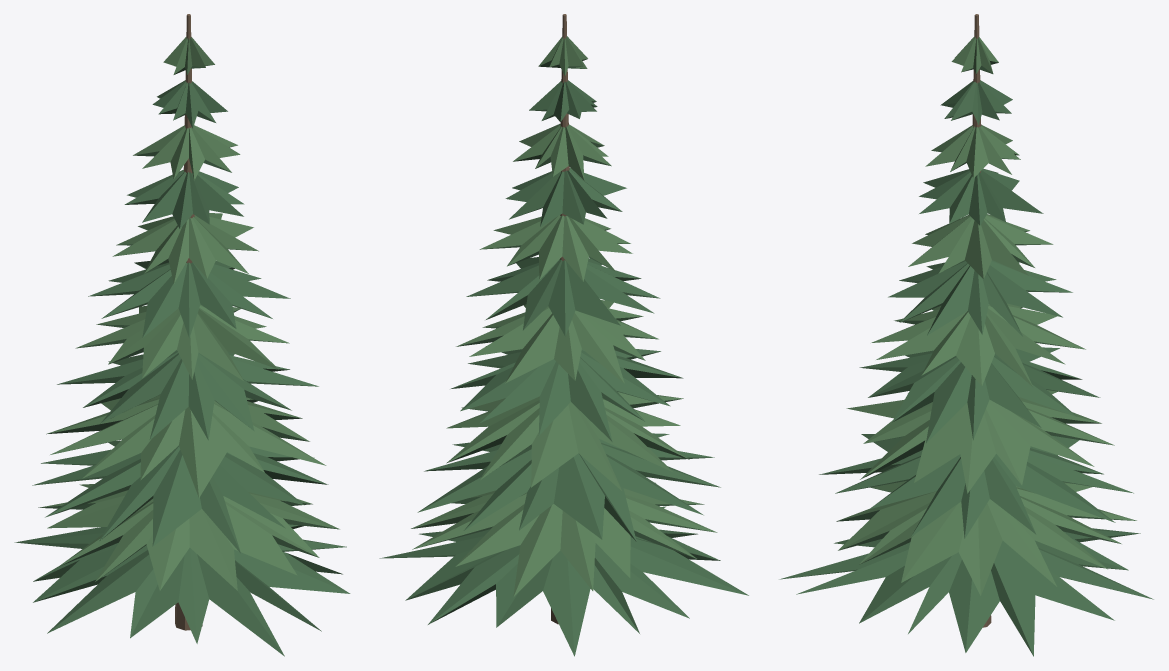
3 views of the same model, side by side, from view 1: azimuth 30°, elevation 25°; view 2: azimuth 150°, elevation 25°; view 3: azimuth 270°, elevation 25° (orthographic).
Visible parts, largest first — view 1: el; view 2: el; view 3: el.
Part boxes in pixels (box(x1,y1,x2,y2)): el: box(14, 14, 350, 656); el: box(379, 14, 748, 656); el: box(779, 14, 1153, 656).
Bounding box in the file's own units: 7.22 × 13 × 7.31.
